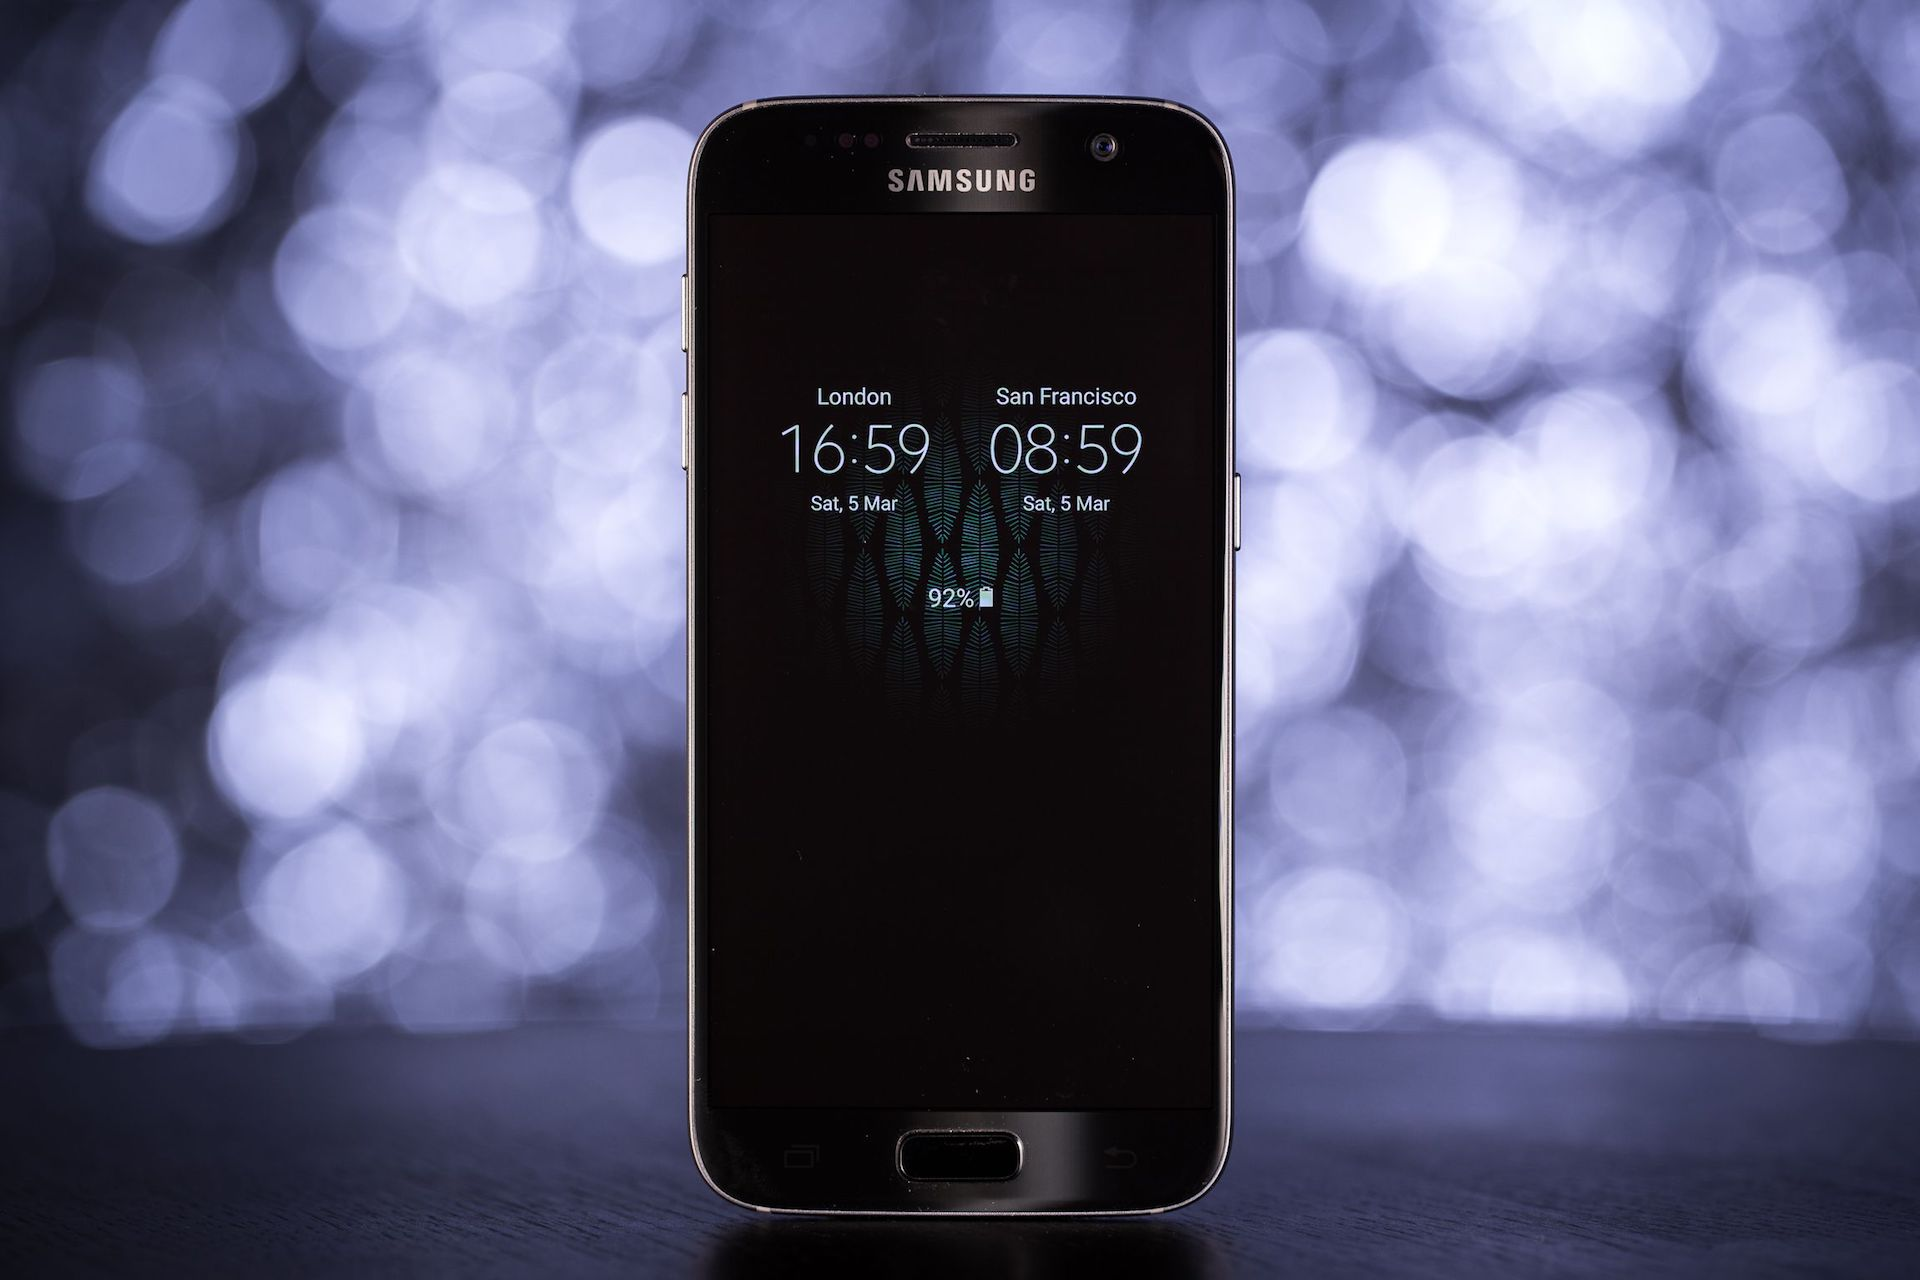smartphone: (679, 91, 1243, 1221)
